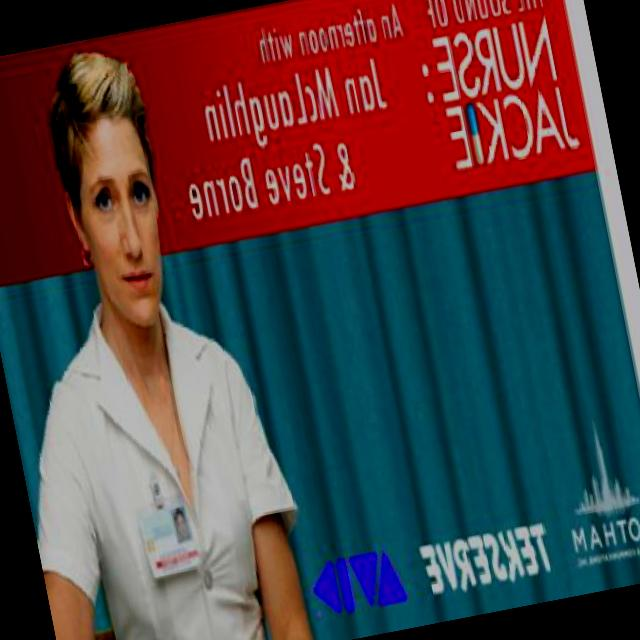Person: (0, 30, 323, 640)
